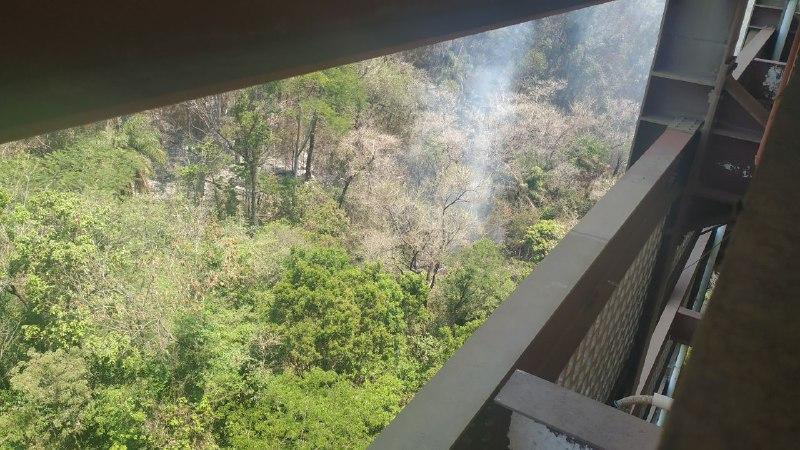smoke: (466, 30, 507, 117)
